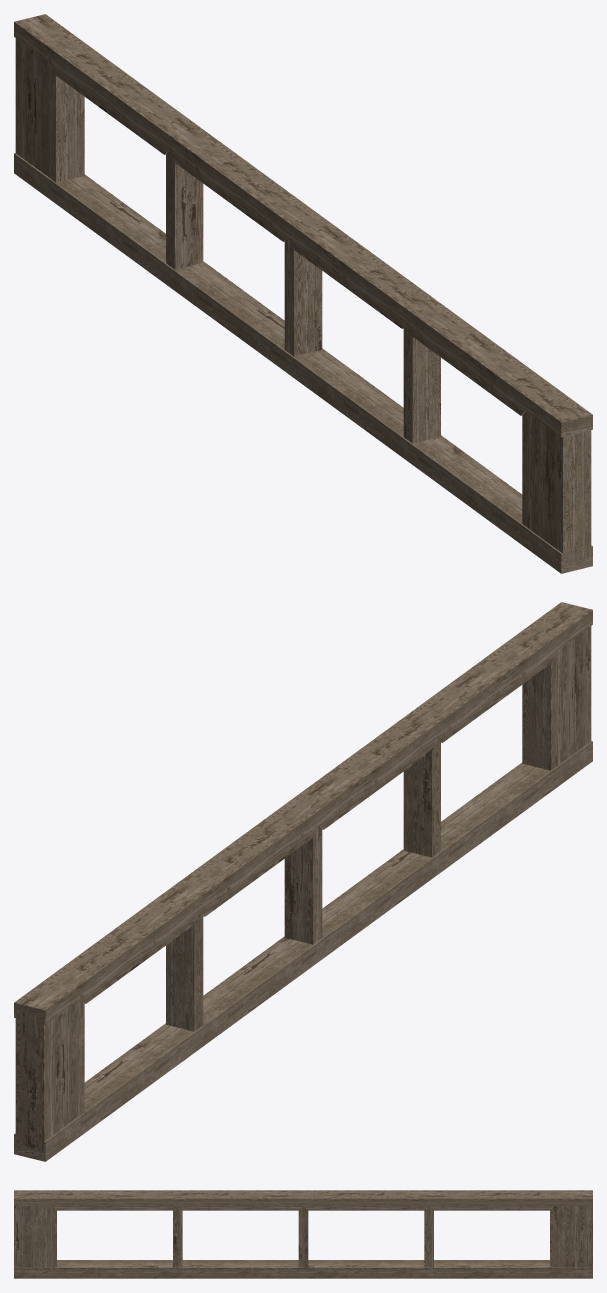
The model's file is SM_CJ_Fence01a.fbx.
The picture shows the model from 3 angles, top to bottom: view 1: azimuth 30°, elevation 25°; view 2: azimuth 150°, elevation 25°; view 3: azimuth 270°, elevation 25°; orthographic projection. The views are drawn at different scales.
Visible parts, largest first — view 1: SM_CJ_Fence01a; view 2: SM_CJ_Fence01a; view 3: SM_CJ_Fence01a.
Boxes of the visible parts, x1,y1,x2,y2 form: SM_CJ_Fence01a: (14, 14, 592, 573); SM_CJ_Fence01a: (14, 602, 592, 1161); SM_CJ_Fence01a: (14, 1190, 592, 1278).
Size of the model in its own units: 10 by 300 by 45.8.
1 material, 1 textured.
